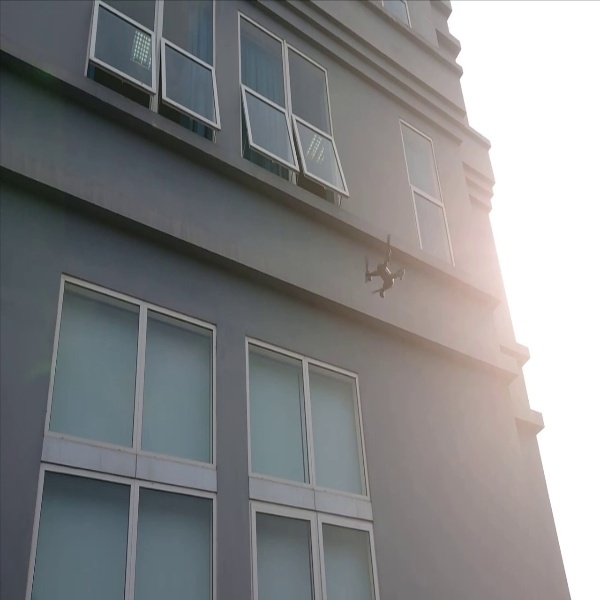drone: (356, 227, 419, 309)
